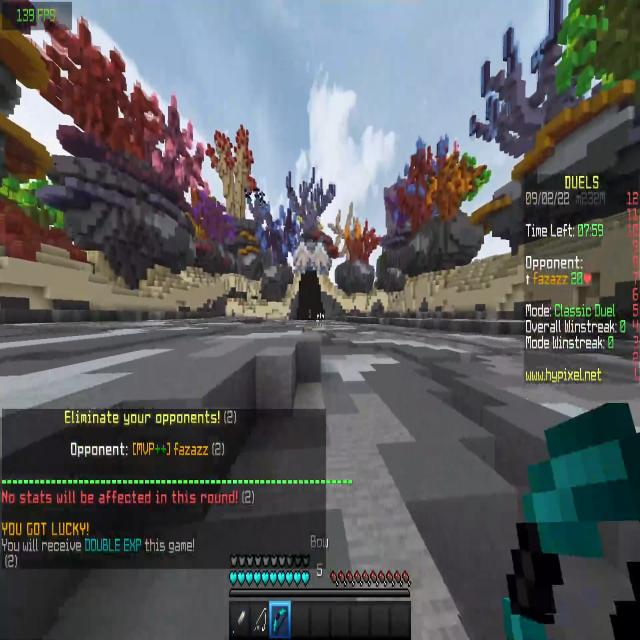Player: (308, 308, 312, 320)
